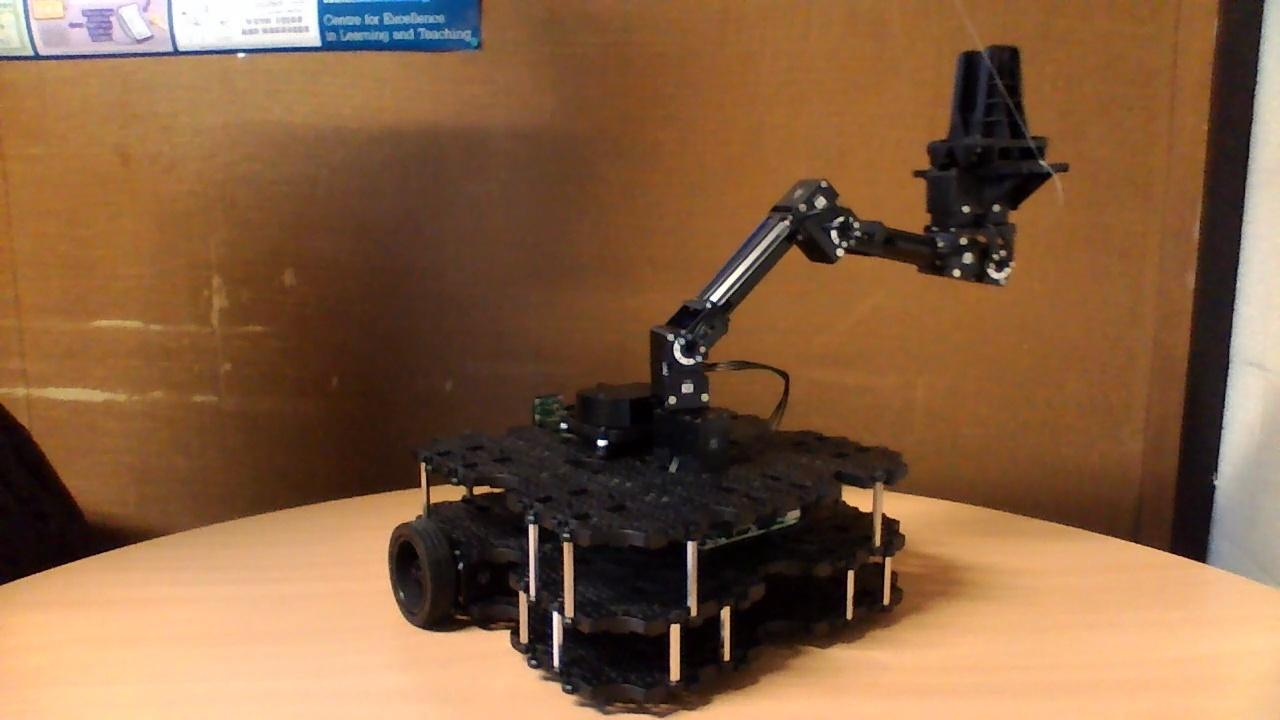Arm: (647, 173, 846, 372)
Hand: (908, 44, 1075, 234)
Wrist: (828, 212, 1022, 288)
base: (385, 379, 915, 698)
